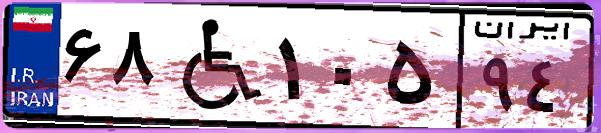0: (330, 28, 385, 110)
1: (270, 28, 330, 110)
4: (525, 38, 570, 115)
5: (385, 28, 445, 110)
6: (57, 26, 110, 100)
8: (110, 28, 158, 98)
9: (475, 38, 525, 113)
ژ (معلولین و جانبازان): (158, 12, 270, 120)
